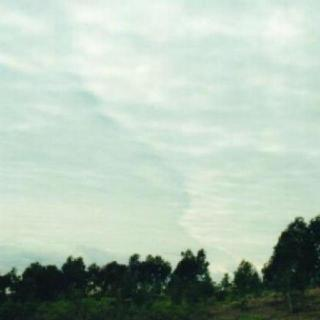Stratus: (0, 0, 320, 248)
